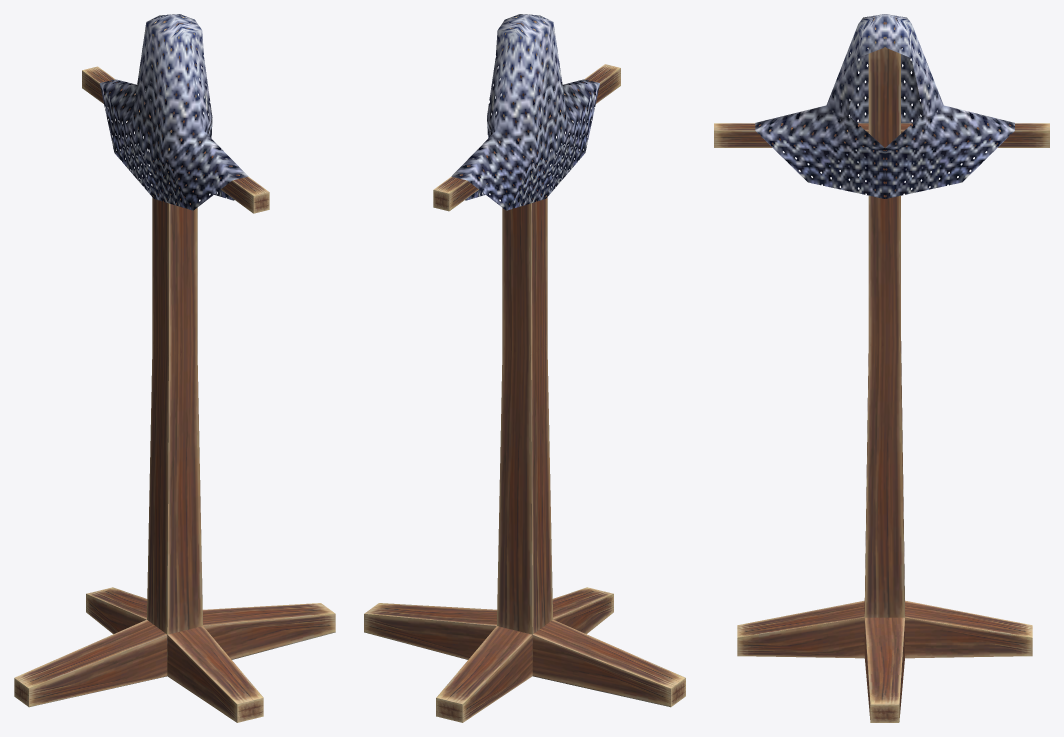
Rendered from armorstandmailcoifblue.obj.
3 renders of one model, left to right at view 1: azimuth 30°, elevation 25°; view 2: azimuth 150°, elevation 25°; view 3: azimuth 270°, elevation 25°, orthographic. The views are drawn at different scales.
Visible parts, largest first — view 1: armorstandmailcoifblue; view 2: armorstandmailcoifblue; view 3: armorstandmailcoifblue.
Boxes of the visible parts, x1,y1,x2,y2 form: armorstandmailcoifblue: (14,14,335,722); armorstandmailcoifblue: (364,14,685,722); armorstandmailcoifblue: (714,14,1049,722).
Size of the model in its own units: 0.8958 by 1.81 by 0.8686.
Materials: 1 (1 with a texture image).
